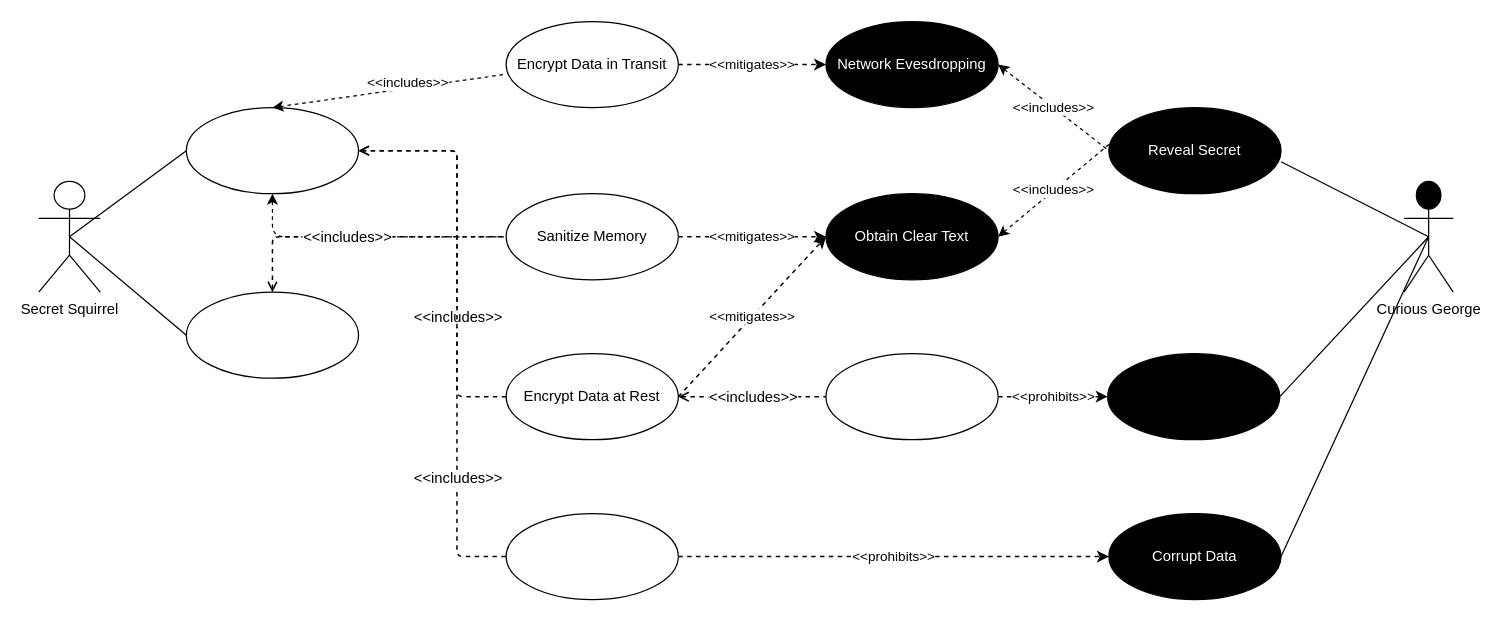
Image size: 1502x621. Some labels were removed from this diagram. Here are the shapes that lost their labels. From the top down, the box of each, then its label:
(185, 106, 359, 194): Store Secret
(185, 291, 359, 378): Retrieve Secret
(825, 352, 998, 440): Use Strong Encryption Implementation
(1106, 352, 1280, 440): Leak Information
(505, 512, 678, 600): Prohibit Use of Old Keys
